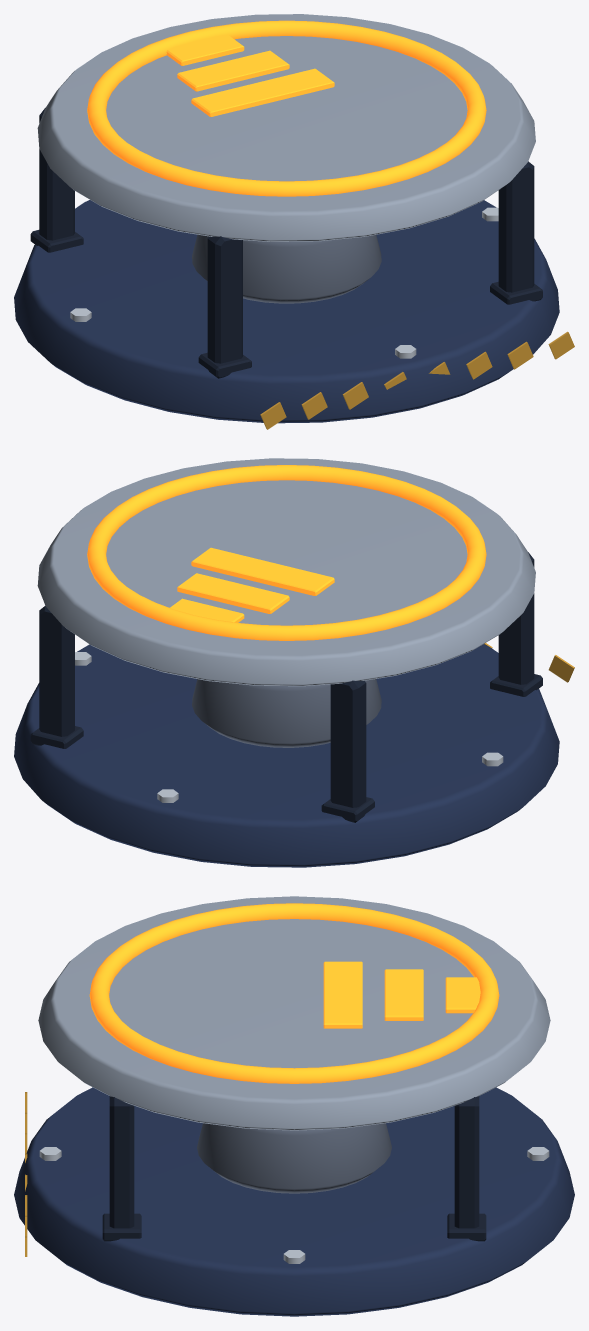
File: shared_launcher_charging.glb
3 renders of one model, top to bottom at view 1: azimuth 30°, elevation 25°; view 2: azimuth 150°, elevation 25°; view 3: azimuth 270°, elevation 25°, orthographic. The views are drawn at different scales.
Parts seen in each view (by area): view 1: launcher_base, launcher_pad, launcher_ring, launcher_cylinder, launcher_guide1, launcher_guide0, launcher_chevron0, launcher_hazard, launcher_guide2, launcher_chevron1, launcher_chevron2, launcher_bolts (+3 smaller); view 2: launcher_base, launcher_pad, launcher_ring, launcher_cylinder, launcher_guide2, launcher_guide3, launcher_chevron0, launcher_guide1, launcher_chevron1, launcher_chevron2, launcher_bolts, launcher_guide_socket2 (+2 smaller); view 3: launcher_base, launcher_pad, launcher_ring, launcher_cylinder, launcher_guide0, launcher_guide3, launcher_chevron0, launcher_chevron1, launcher_chevron2, launcher_bolts, launcher_guide_socket0, launcher_guide_socket3.
Boxes of the visible parts, left/top/right/bottom form: launcher_base: left=14, top=200, right=559, bottom=423; launcher_pad: left=37, top=14, right=535, bottom=241; launcher_ring: left=87, top=20, right=486, bottom=196; launcher_cylinder: left=192, top=234, right=381, bottom=303; launcher_guide1: left=207, top=236, right=242, bottom=363; launcher_guide0: left=498, top=161, right=534, bottom=292; launcher_chevron0: left=191, top=68, right=334, bottom=116; launcher_hazard: left=260, top=331, right=574, bottom=429; launcher_guide2: left=39, top=108, right=74, bottom=240; launcher_chevron1: left=177, top=50, right=289, bottom=91; launcher_chevron2: left=166, top=35, right=244, bottom=65; launcher_bolts: left=70, top=207, right=498, bottom=358; launcher_base: left=14, top=644, right=559, bottom=867; launcher_pad: left=37, top=458, right=535, bottom=686; launcher_ring: left=87, top=465, right=486, bottom=640; launcher_cylinder: left=192, top=679, right=381, bottom=747; launcher_guide2: left=330, top=680, right=366, bottom=807; launcher_guide3: left=39, top=605, right=74, bottom=736; launcher_chevron0: left=191, top=547, right=334, bottom=595; launcher_guide1: left=498, top=552, right=534, bottom=684; launcher_chevron1: left=177, top=573, right=289, bottom=613; launcher_chevron2: left=170, top=598, right=244, bottom=622; launcher_bolts: left=75, top=652, right=503, bottom=802; launcher_guide_socket2: left=321, top=797, right=374, bottom=822; launcher_base: left=14, top=1087, right=574, bottom=1316; launcher_pad: left=38, top=896, right=550, bottom=1130; launcher_ring: left=89, top=903, right=499, bottom=1083; launcher_cylinder: left=197, top=1123, right=391, bottom=1193; launcher_guide0: left=109, top=1096, right=134, bottom=1228; launcher_guide3: left=454, top=1096, right=479, bottom=1228; launcher_chevron0: left=323, top=961, right=362, bottom=1028; launcher_chevron1: left=384, top=969, right=423, bottom=1020; launcher_chevron2: left=445, top=977, right=480, bottom=1013; launcher_bolts: left=39, top=1147, right=549, bottom=1263; launcher_guide_socket0: left=102, top=1213, right=141, bottom=1241; launcher_guide_socket3: left=447, top=1213, right=486, bottom=1241.
Size of the model in its own units: 2.3 by 0.97 by 2.3.
